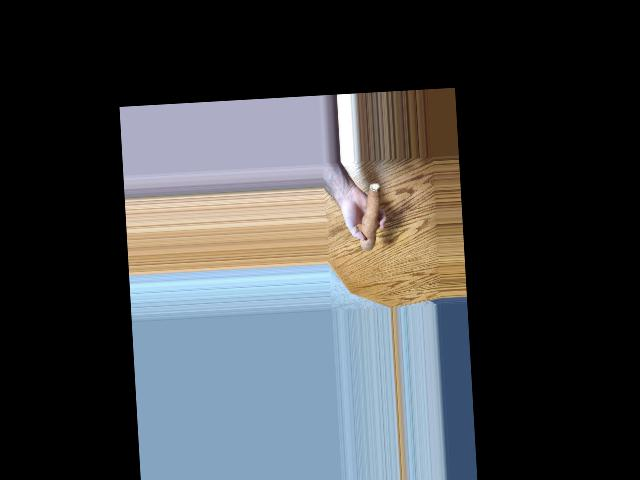sweet_potato: (359, 177, 385, 254)
